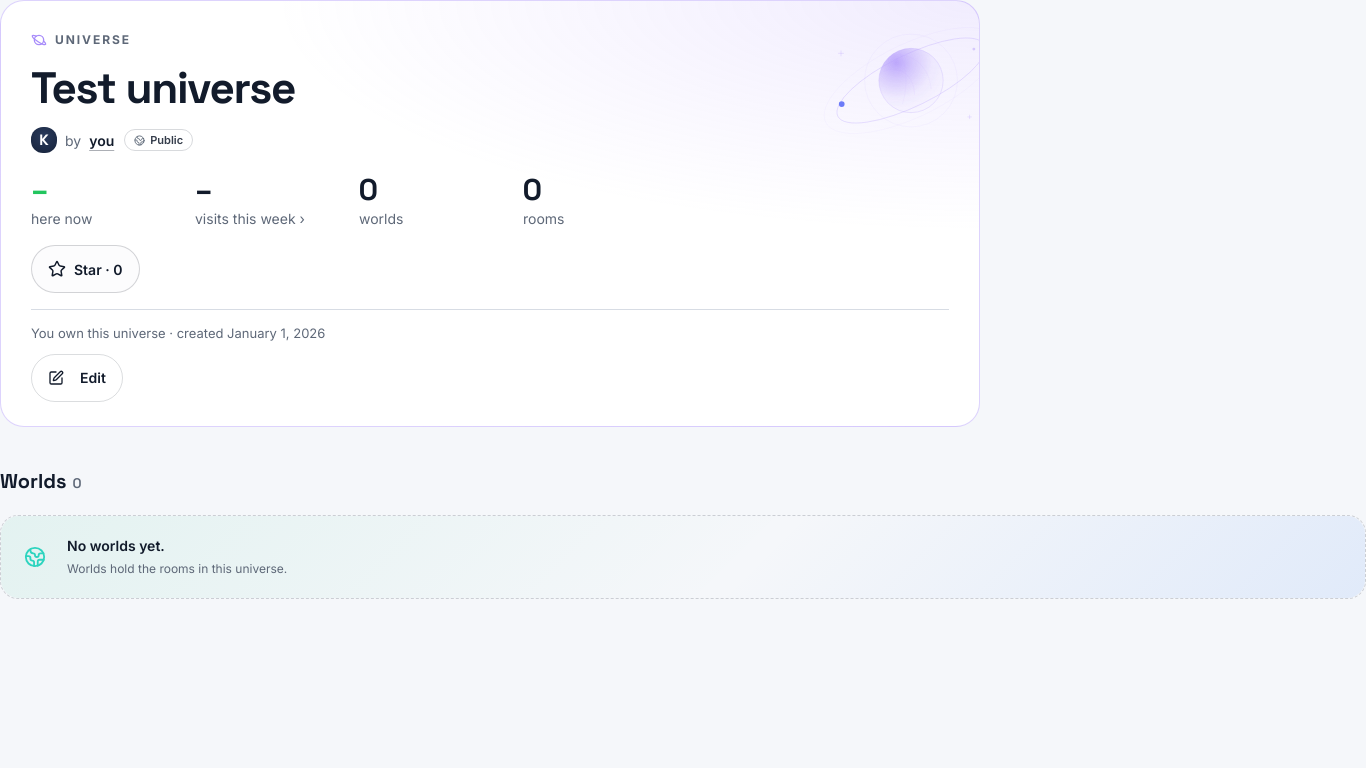
Advanced settings is collapsed when Edit opens, and holds the one row, which is not a Bots group
Step 1. Click the button "Edit" → click(77, 378), box left=31, top=354, right=123, bottom=402
(page scrolled)
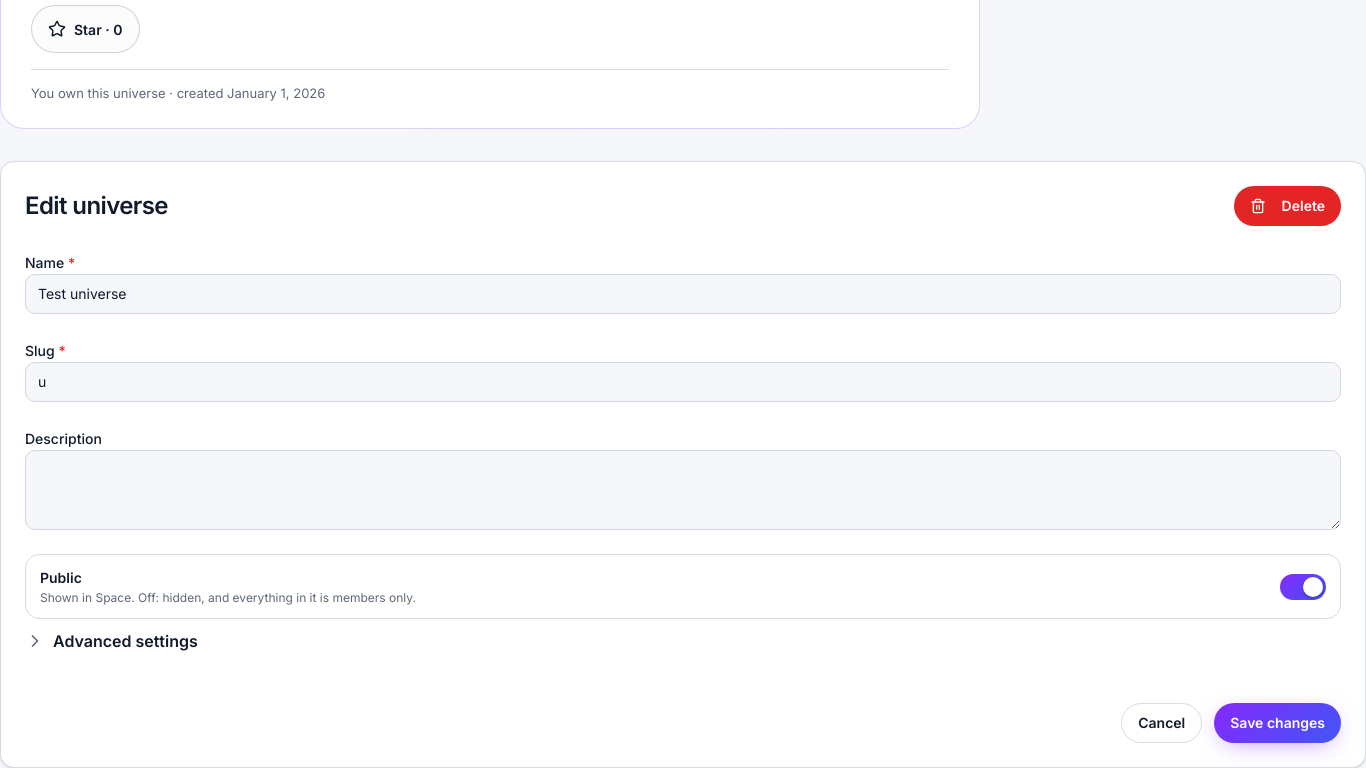
Check: the switch labelled "Bot chat telemetry" is not shown
Step 2. Click the button "Advanced settings" → click(125, 641), box left=25, top=620, right=1341, bottom=664
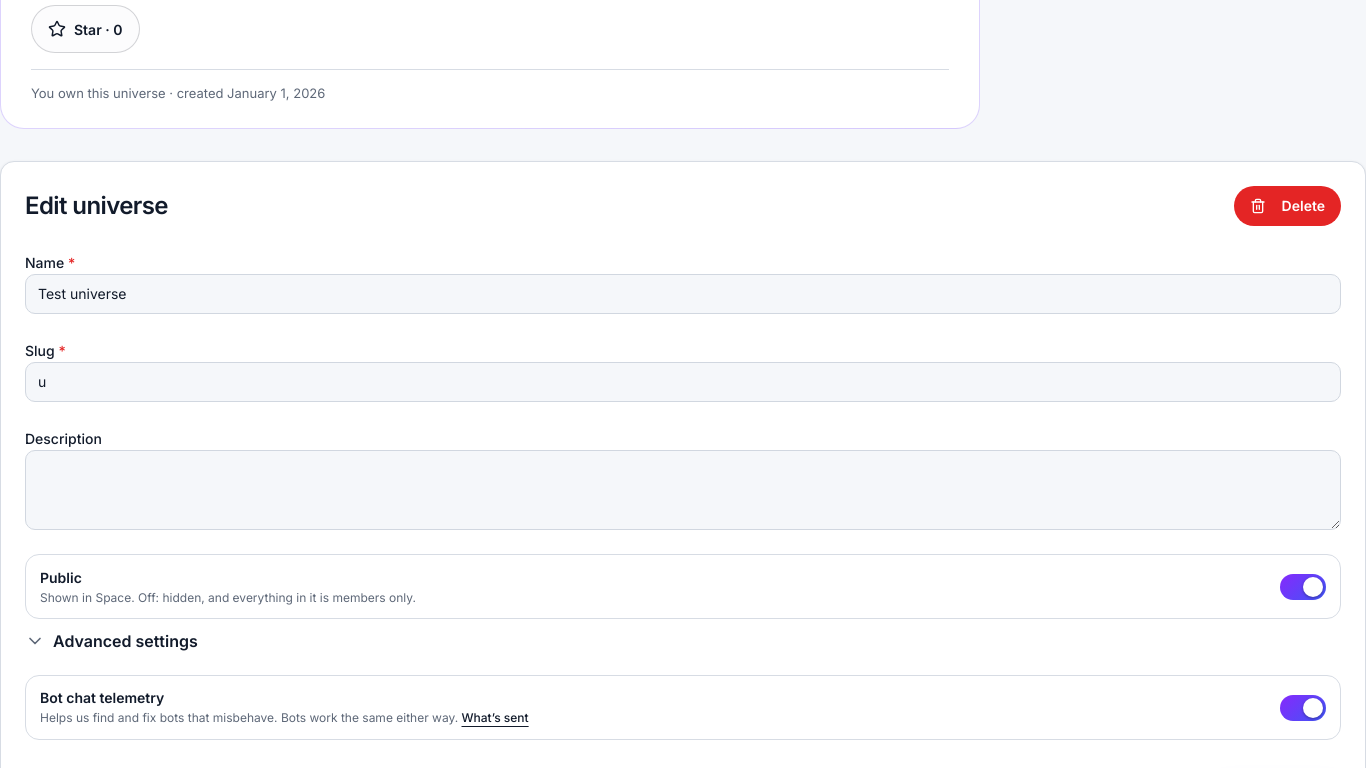
Check: the switch named "Bot chat telemetry" in the row of "Bot chat telemetry" is checked, box left=1280, top=695, right=1326, bottom=721
Check: the text "Helps us find and fix bots that misbehave" is shown, box left=40, top=710, right=458, bottom=726
